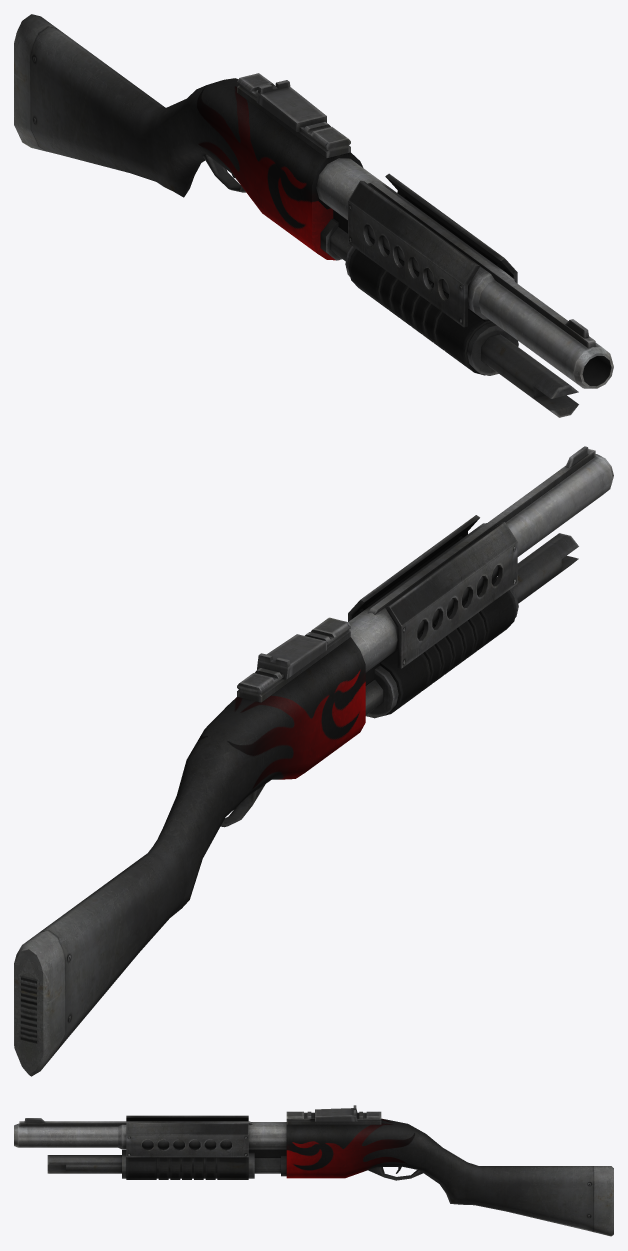
File: Pain_Hammer.fbx
3 renders of one model, top to bottom at view 1: azimuth 30°, elevation 25°; view 2: azimuth 150°, elevation 25°; view 3: azimuth 270°, elevation 25°, orthographic. The views are drawn at different scales.
Visible parts, largest first — view 1: Pain_Hammer; view 2: Pain_Hammer; view 3: Pain_Hammer.
Part boxes in pixels (x1=…): Pain_Hammer: x1=14, y1=14, x2=613, y2=417; Pain_Hammer: x1=14, y1=446, x2=613, y2=1076; Pain_Hammer: x1=14, y1=1105, x2=613, y2=1236.
Size of the model in its own units: 0.0622 by 0.2661 by 1.14.
